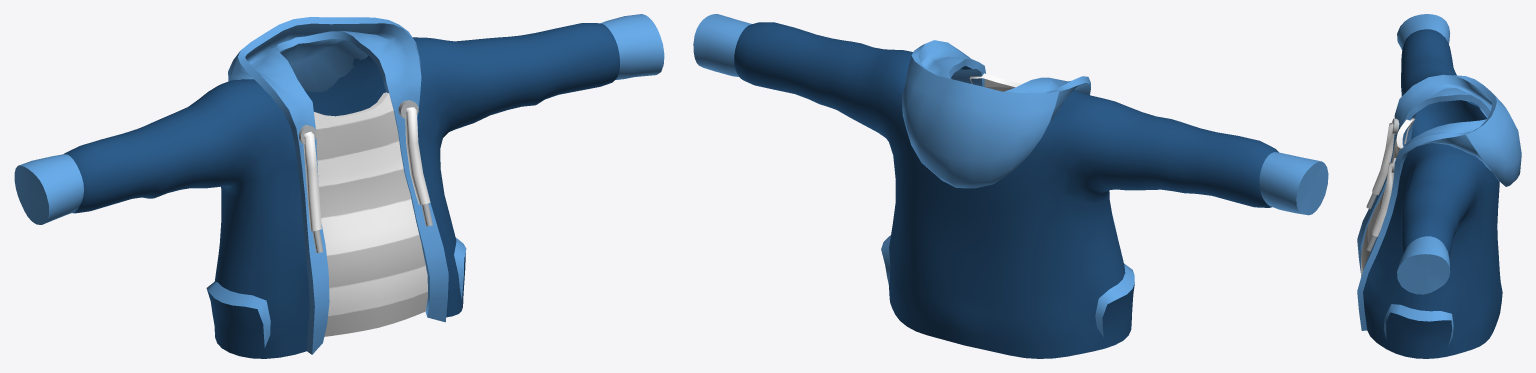
Rendered from 1连帽衫.fbx.
3 views of the same model, side by side, from view 1: azimuth 30°, elevation 25°; view 2: azimuth 150°, elevation 25°; view 3: azimuth 270°, elevation 25° (orthographic). The views are drawn at different scales.
Parts seen in each view (by area): view 1: 1连帽衫; view 2: 1连帽衫; view 3: 1连帽衫.
Part boxes in pixels (x1=…): 1连帽衫: x1=14, y1=14, x2=664, y2=358; 1连帽衫: x1=693, y1=14, x2=1328, y2=358; 1连帽衫: x1=1357, y1=14, x2=1521, y2=358.
Size of the model in its own units: 1.61 by 0.6738 by 0.4674.
